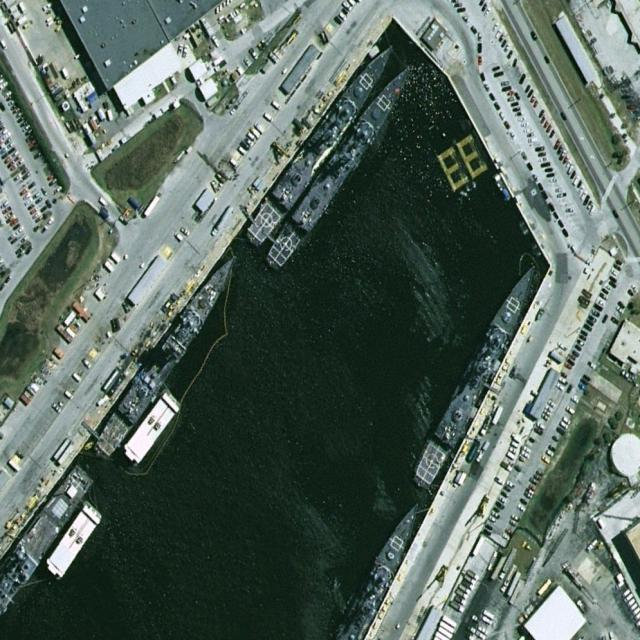Frigate: (262, 55, 419, 276), (90, 247, 244, 466), (408, 255, 547, 496), (246, 35, 399, 249), (341, 496, 426, 640)
